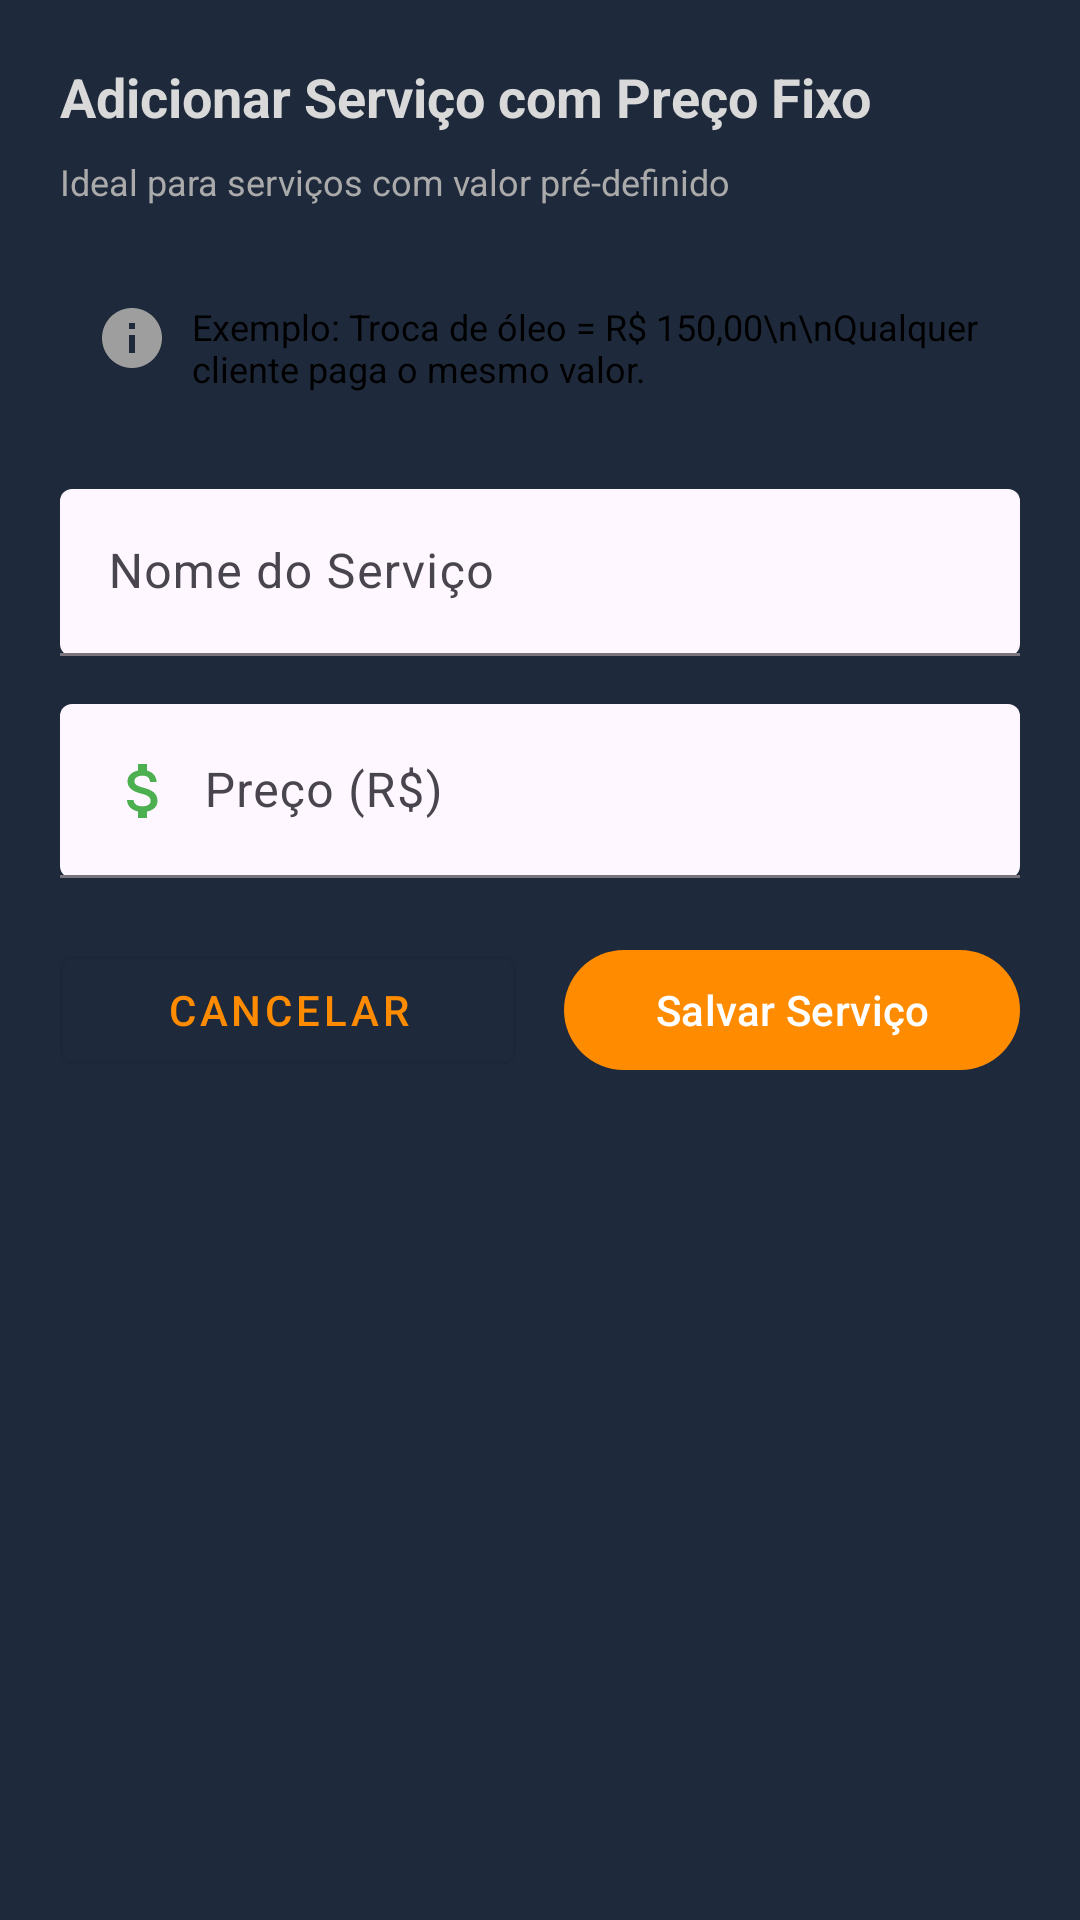

Screen size 1080x1920. Icon name, then its center in pixels as [x,y]:
info: [132,338]
